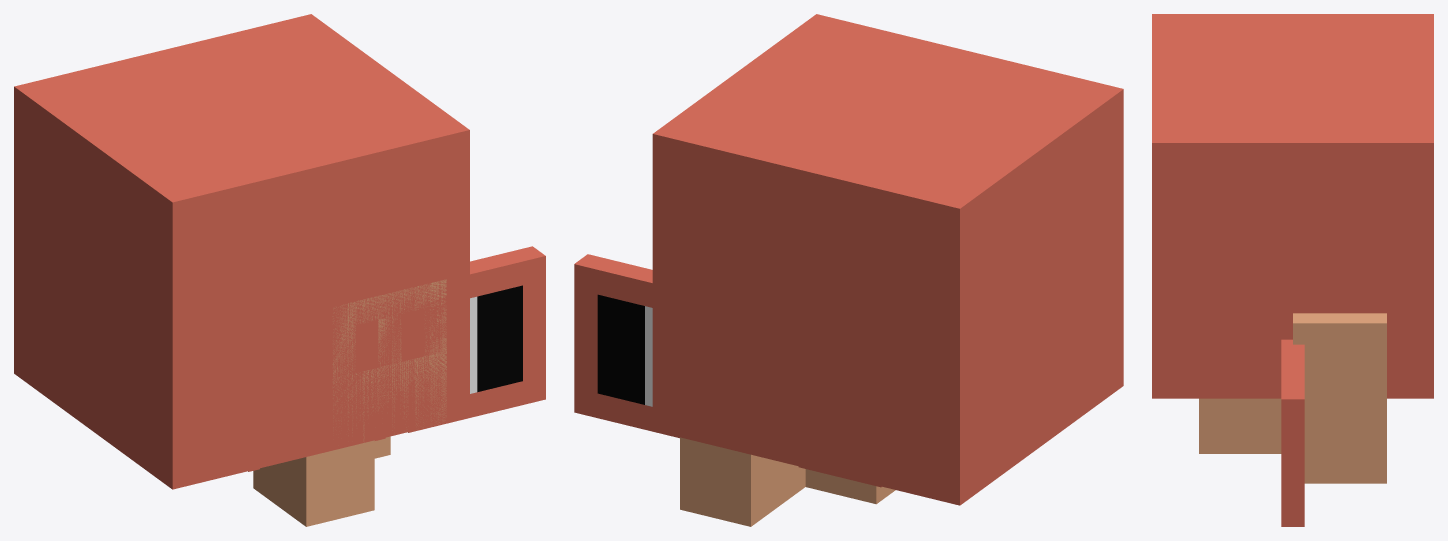
File: aardvark.glb
3 renders of one model, left to right at view 1: azimuth 30°, elevation 25°; view 2: azimuth 150°, elevation 25°; view 3: azimuth 270°, elevation 25°, orthographic. The views are drawn at different scales.
Visible parts, largest first — view 1: base, 5, glasses, top, layer-2; view 2: base, nose, glasses, layer-2, 5; view 3: base, nose, 5, glasses.
Part boxes in pixels (left/top/right/bottom): base: left=14, top=14, right=469, bottom=489; 5: left=253, top=440, right=374, bottom=526; glasses: left=248, top=246, right=545, bottom=471; top: left=332, top=279, right=446, bottom=441; layer-2: left=470, top=285, right=522, bottom=393; base: left=652, top=14, right=1123, bottom=505; nose: left=680, top=437, right=805, bottom=526; glasses: left=574, top=254, right=881, bottom=487; layer-2: left=597, top=294, right=652, bottom=406; 5: left=805, top=469, right=895, bottom=504; base: left=1152, top=14, right=1433, bottom=398; nose: left=1293, top=313, right=1386, bottom=483; 5: left=1199, top=398, right=1281, bottom=453; glasses: left=1281, top=339, right=1304, bottom=526.
Bounding box in the file's own units: 19.5 × 16 × 12.
9 materials, 9 textured.
